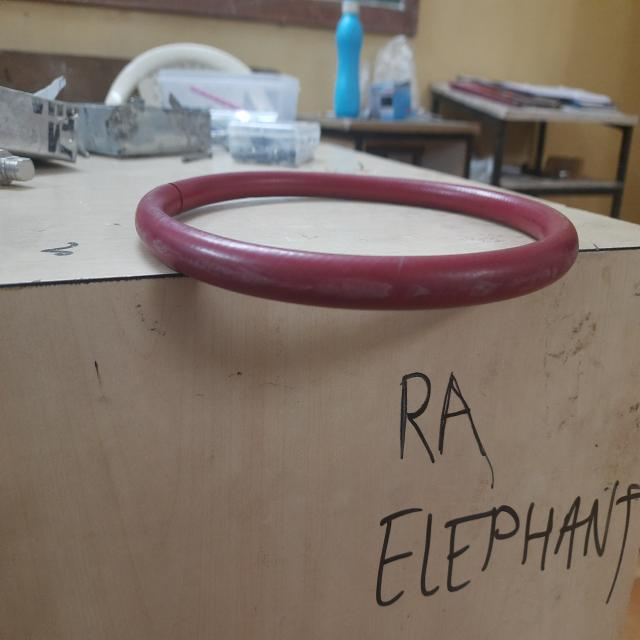daire: (140, 168, 573, 311)
